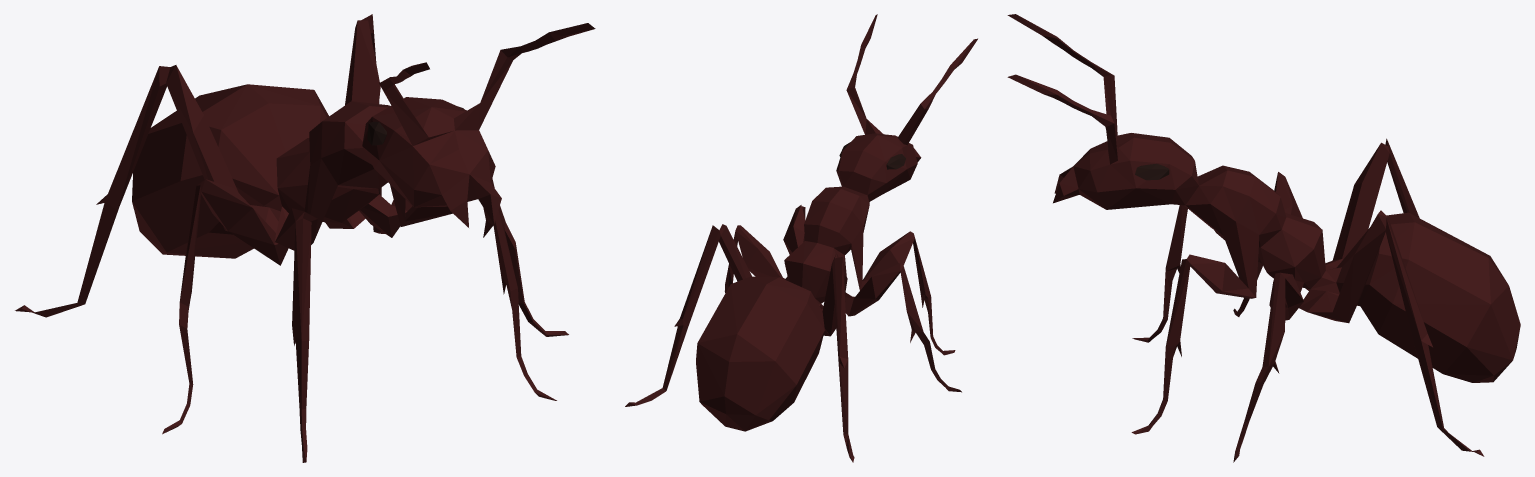
File: basic ant.fbx
3 renders of one model, left to right at view 1: azimuth 30°, elevation 25°; view 2: azimuth 150°, elevation 25°; view 3: azimuth 270°, elevation 25°, orthographic. The views are drawn at different scales.
Parts seen in each view (by area): view 1: Ant; view 2: Ant; view 3: Ant.
Part boxes in pixels (bbox=[...]): Ant: bbox=[15, 14, 595, 462]; Ant: bbox=[625, 14, 977, 462]; Ant: bbox=[1007, 14, 1520, 462].
Size of the model in its own units: 127 by 133 by 181.
